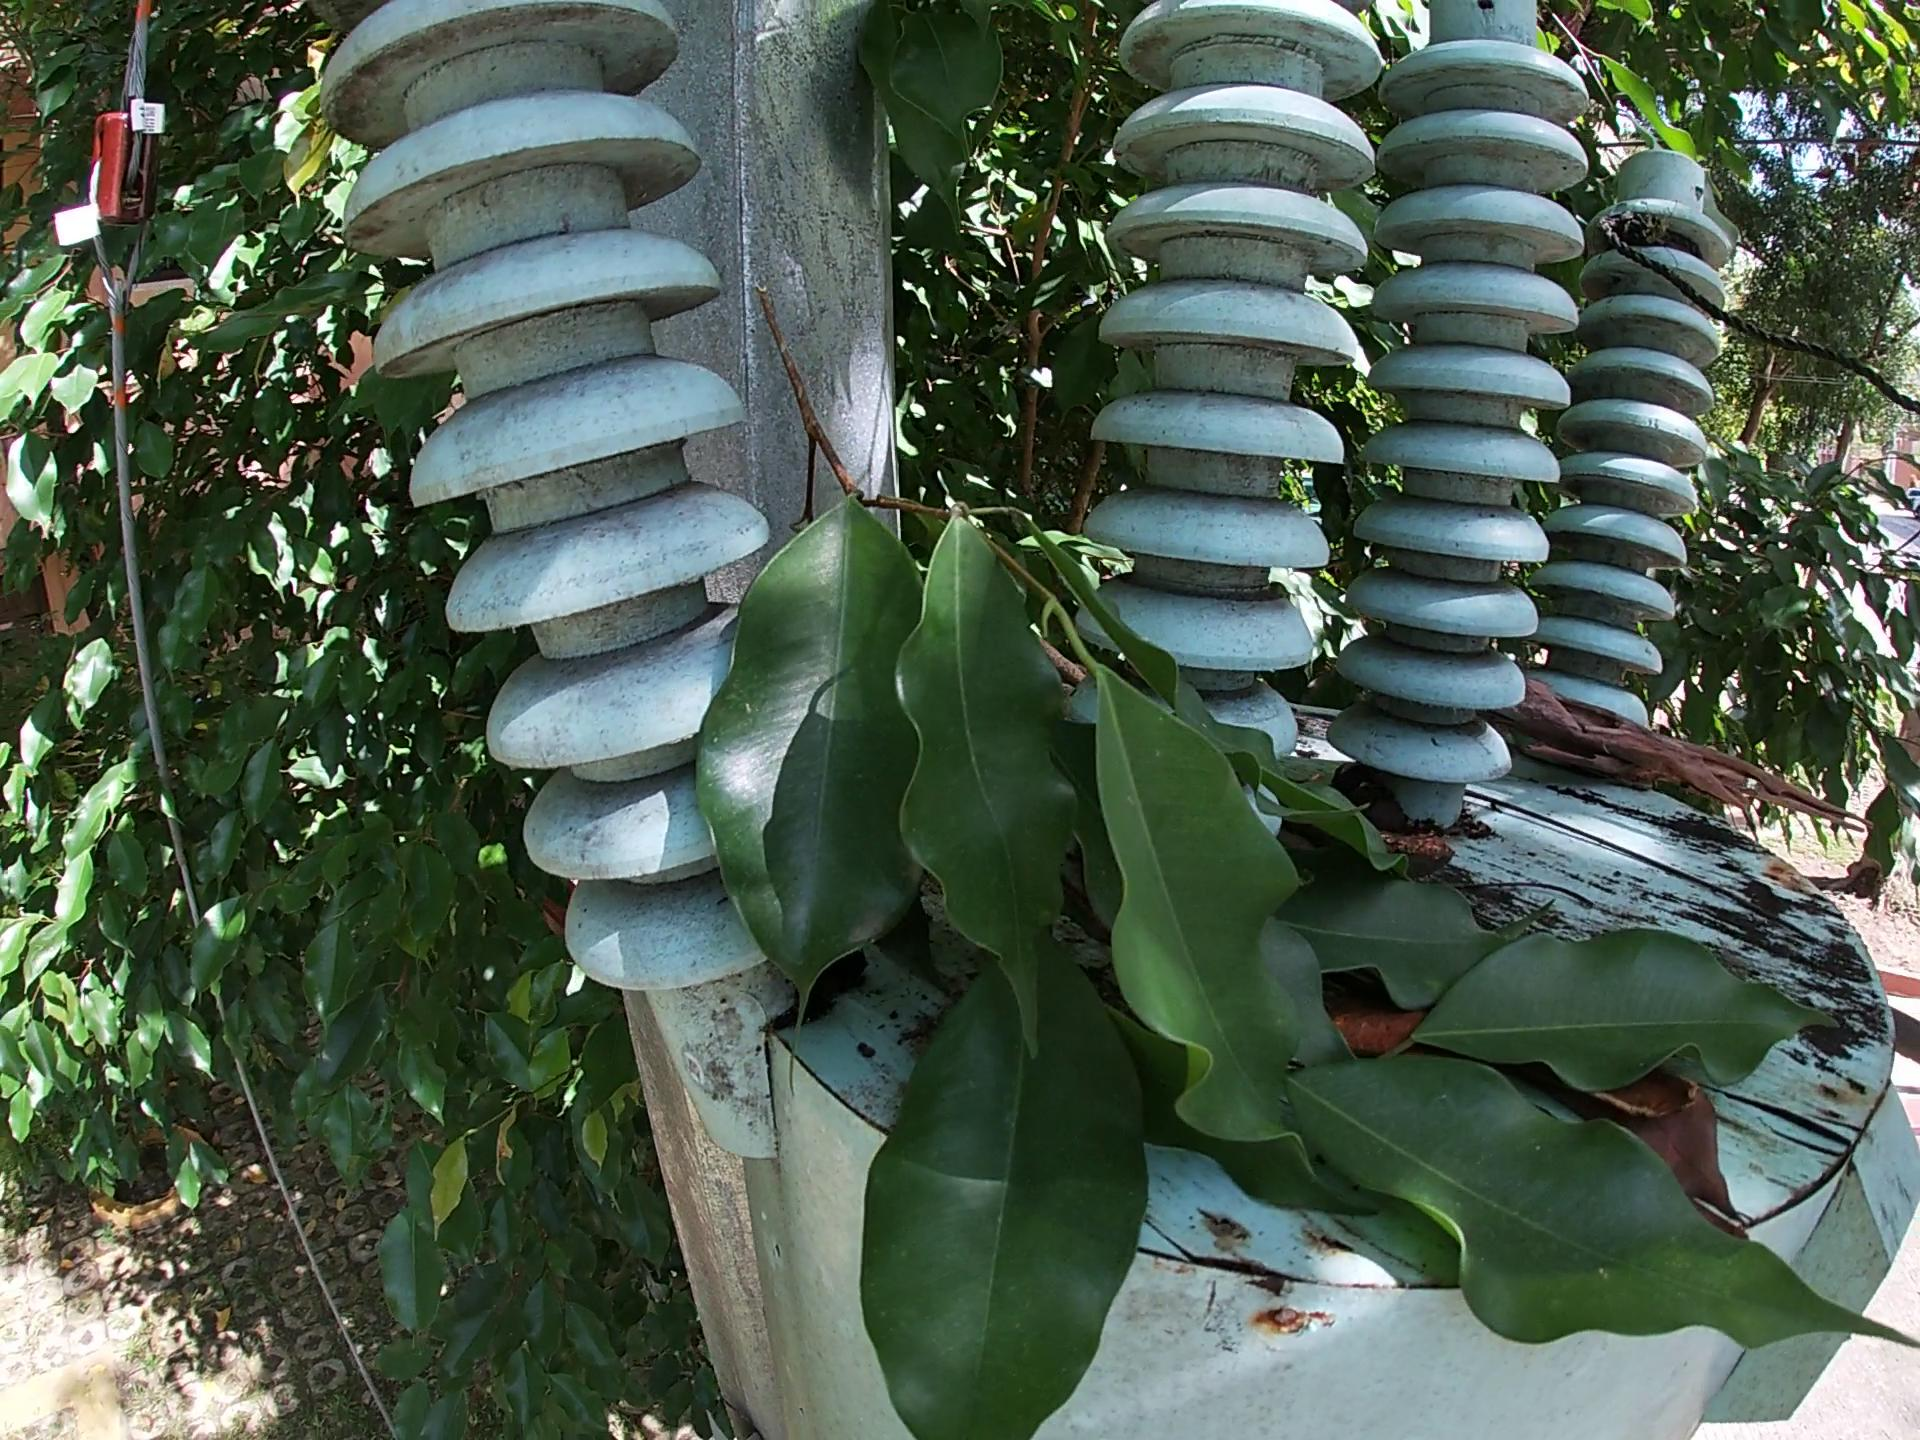branch with leaves: (723, 259, 1888, 1420)
leaf: (1655, 1113, 1751, 1222), (1324, 1004, 1424, 1051)
mahogany fruit: (1339, 799, 1477, 883), (1571, 1063, 1701, 1121)
tree branch: (1492, 675, 1879, 846), (1027, 629, 1107, 691)
